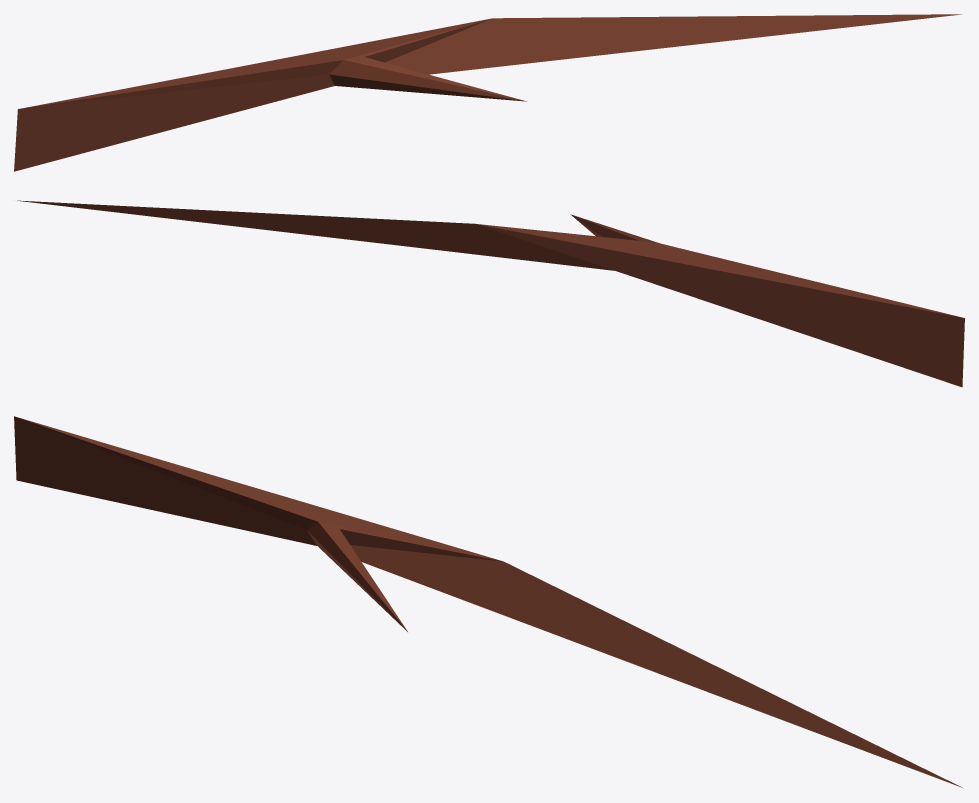
The model's file is pine_branch_type_6_LOD1.fbx.
3 renders of one model, top to bottom at view 1: azimuth 30°, elevation 25°; view 2: azimuth 150°, elevation 25°; view 3: azimuth 330°, elevation 25°, orthographic. The views are drawn at different scales.
Parts seen in each view (by area): view 1: Circle.036; view 2: Circle.036; view 3: Circle.036.
Part boxes in pixels (left/top/right/bottom): Circle.036: left=14, top=14, right=961, bottom=171; Circle.036: left=17, top=200, right=964, bottom=387; Circle.036: left=14, top=416, right=962, bottom=787.
Bounding box in the file's own units: 402 × 50.7 × 49.76.
